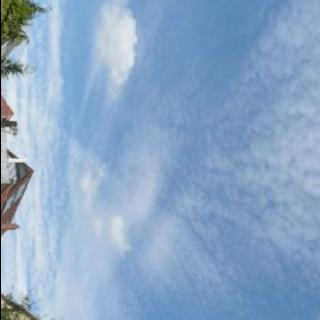Cirrocumulus: (22, 0, 320, 320)
